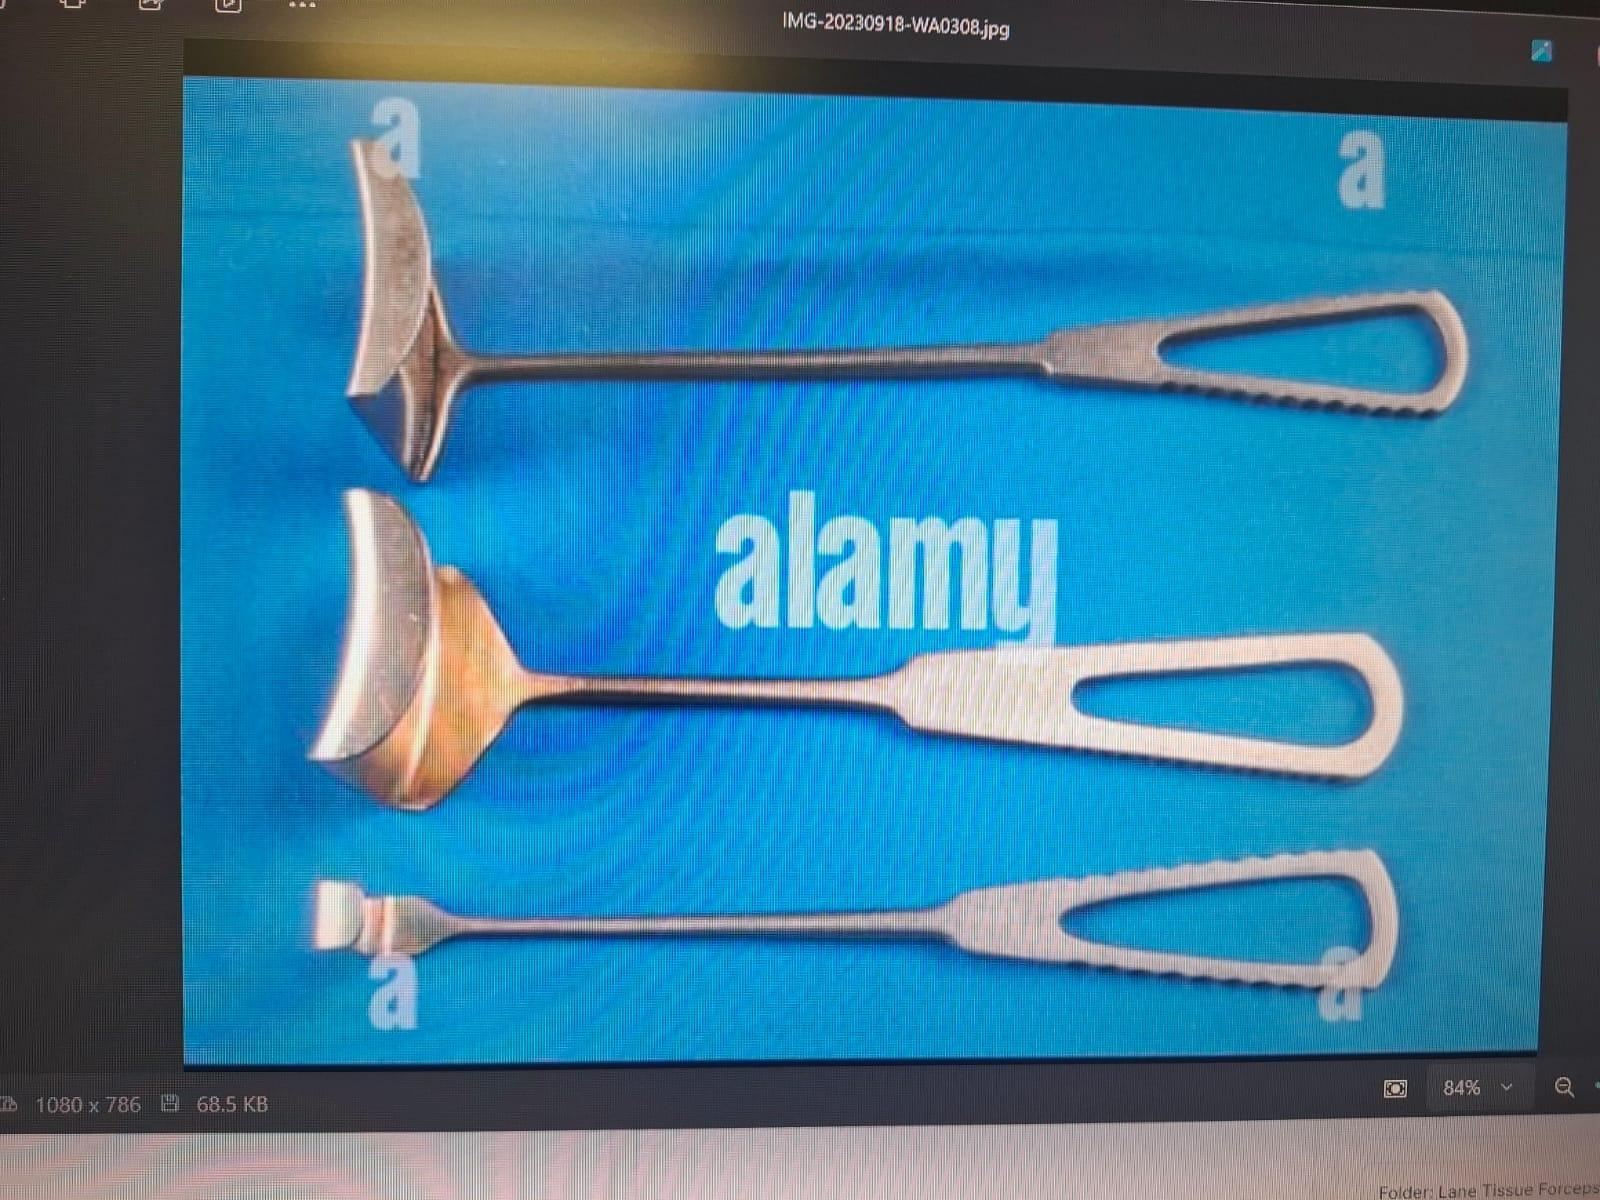Morris Retractor: (317, 120, 1470, 500), (304, 470, 1406, 828)
